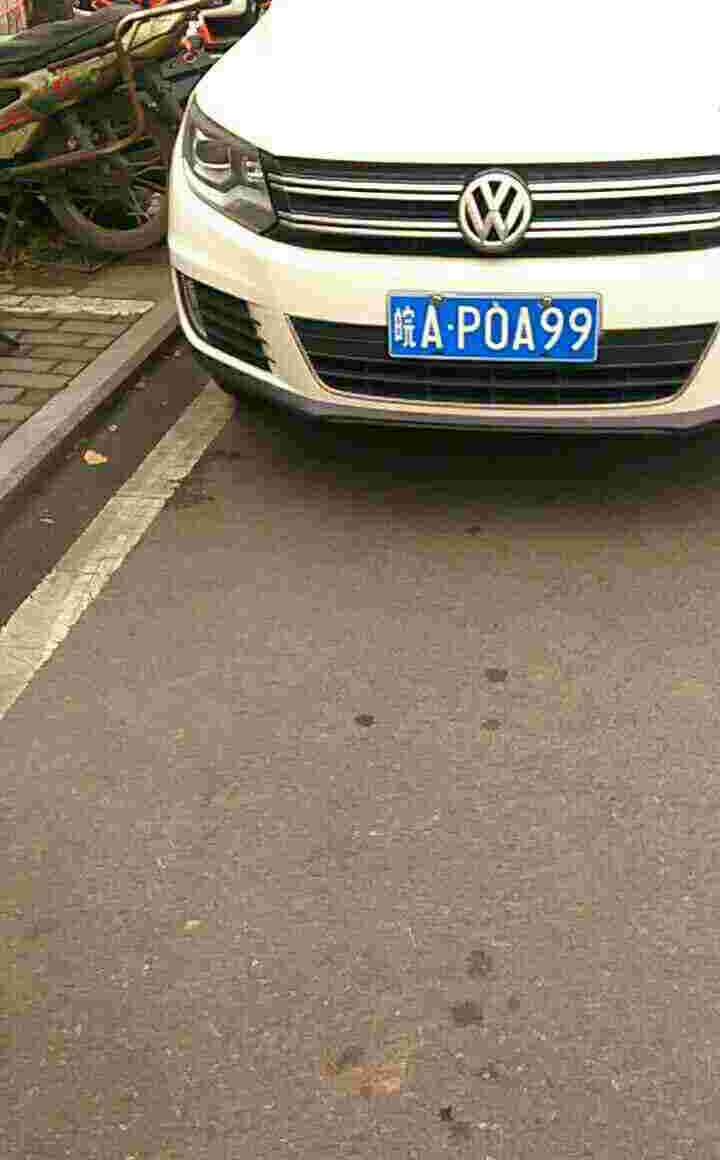car: (389, 290, 599, 361)
